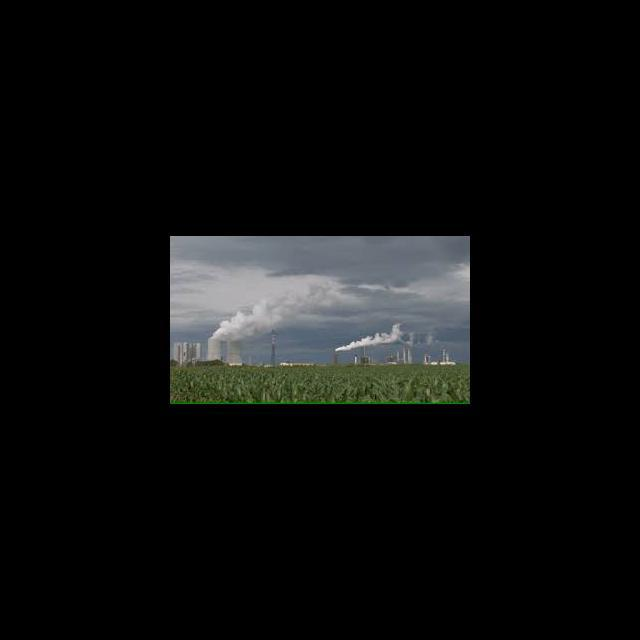Smoke: (208, 308, 290, 339), (336, 322, 410, 352)
